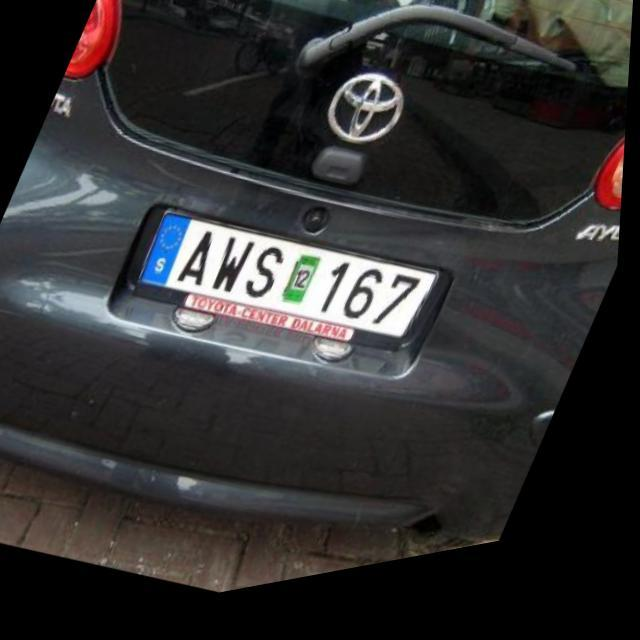license_plate: (127, 174, 450, 413)
